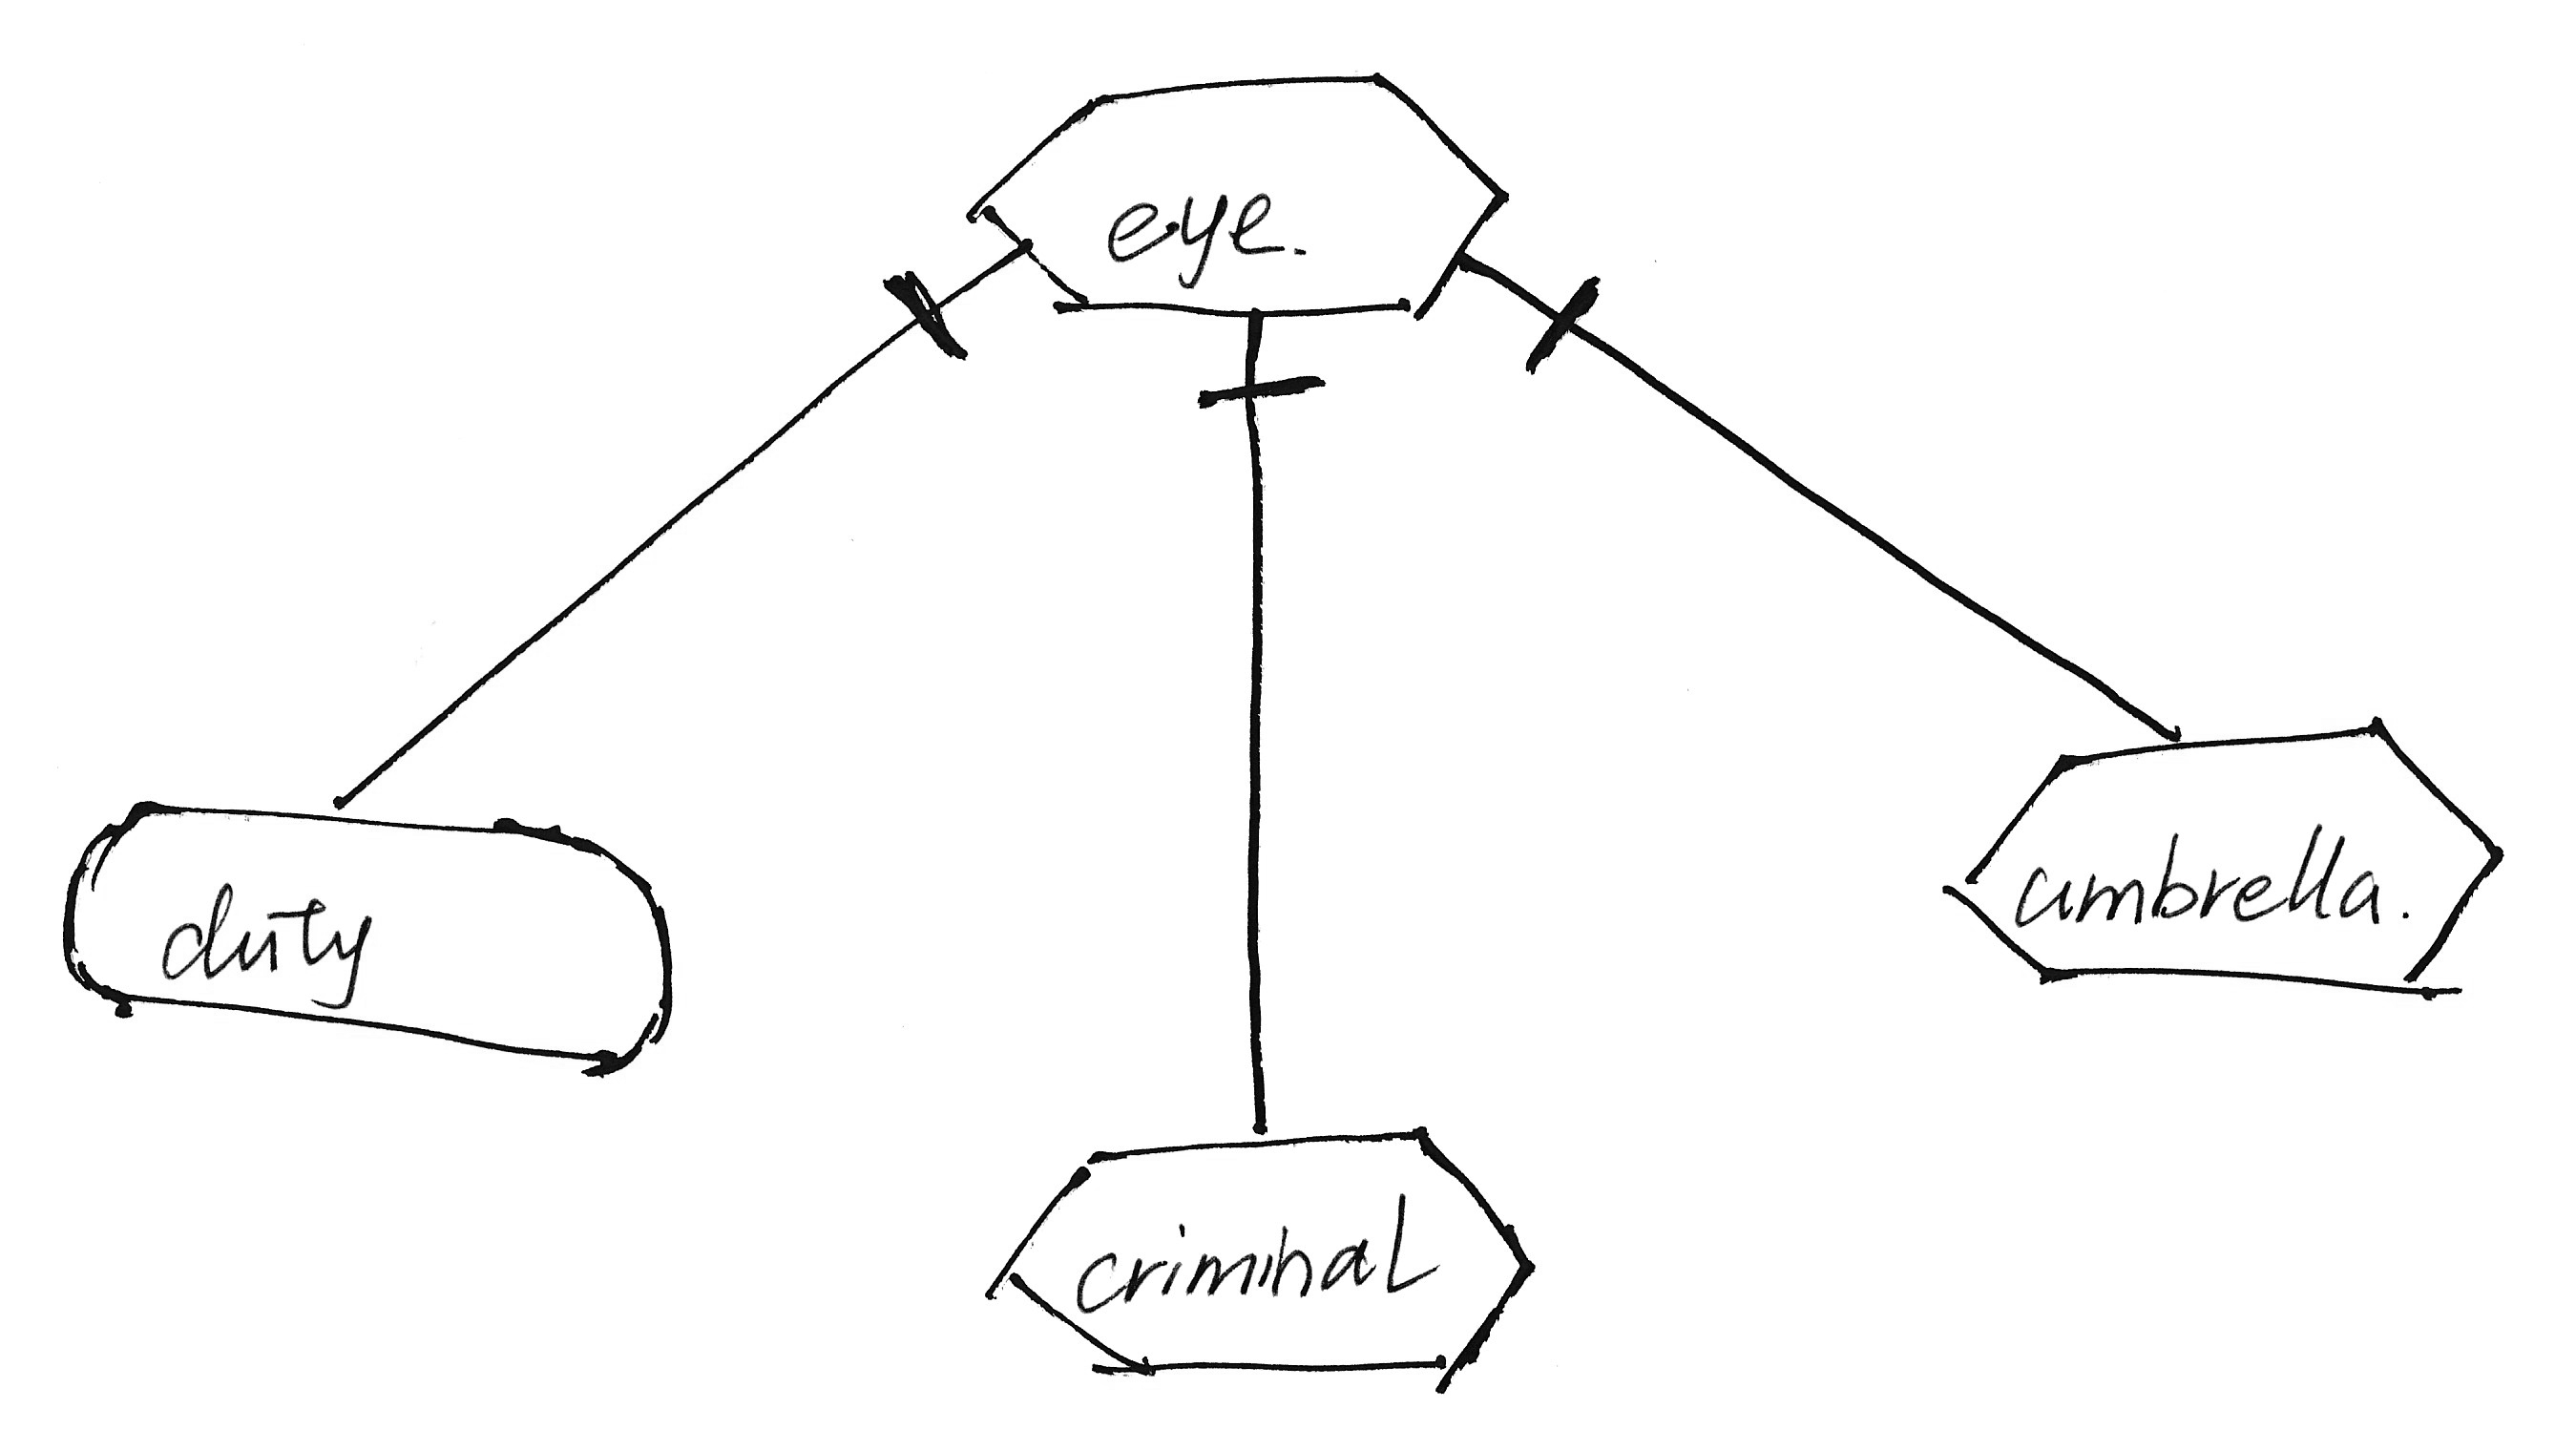and: (1442, 234, 1626, 375), (869, 232, 1049, 370), (1187, 288, 1327, 434)
goal: (39, 779, 694, 1092)
task: (1918, 702, 2534, 1017), (977, 1108, 1564, 1405), (954, 55, 1525, 333)
